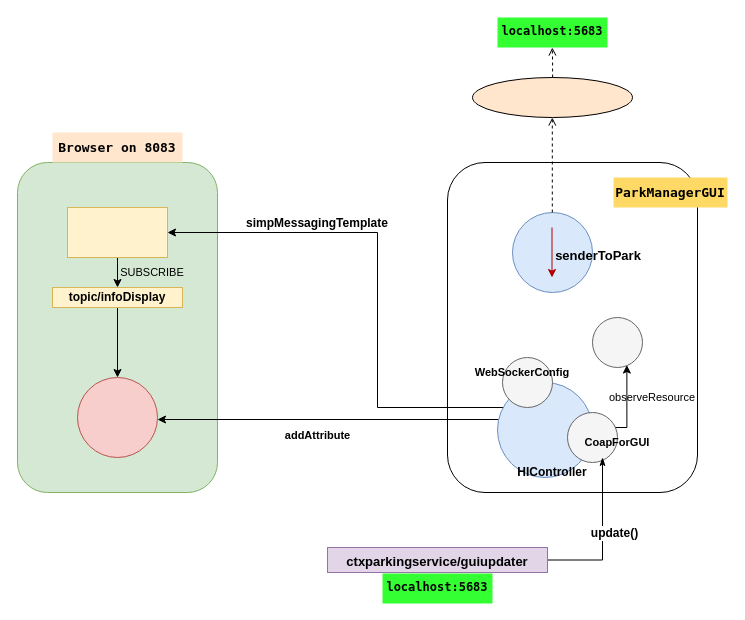
This 745x620 diagram has some shape labels left out. Each missing label, with the centre of its shape:
"app.js" belongs at (x=117, y=232).
"ParkingCoapHandler" belongs at (x=617, y=342).
"View" belongs at (x=117, y=417).
"WebSocket" belongs at (x=552, y=97).
